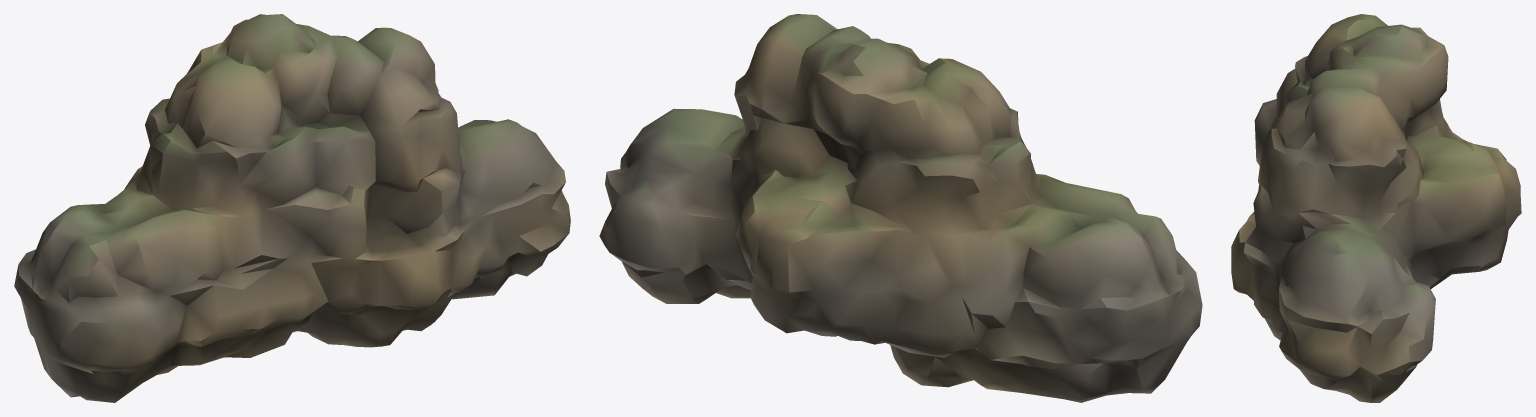
The model's file is rockery-strata.glb.
The picture shows the model from 3 angles, left to right: view 1: azimuth 30°, elevation 25°; view 2: azimuth 150°, elevation 25°; view 3: azimuth 270°, elevation 25°; orthographic projection. The views are drawn at different scales.
Parts seen in each view (by area): view 1: rockery-strata.001; view 2: rockery-strata.001; view 3: rockery-strata.001.
Part boxes in pixels (x1,y1,x2,y2): rockery-strata.001: (14, 14, 570, 402); rockery-strata.001: (599, 14, 1202, 402); rockery-strata.001: (1231, 14, 1521, 402).
Bounding box in the file's own units: 2.15 × 1.15 × 1.09.
